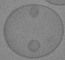small: (27, 40, 40, 52), (29, 7, 41, 19)
